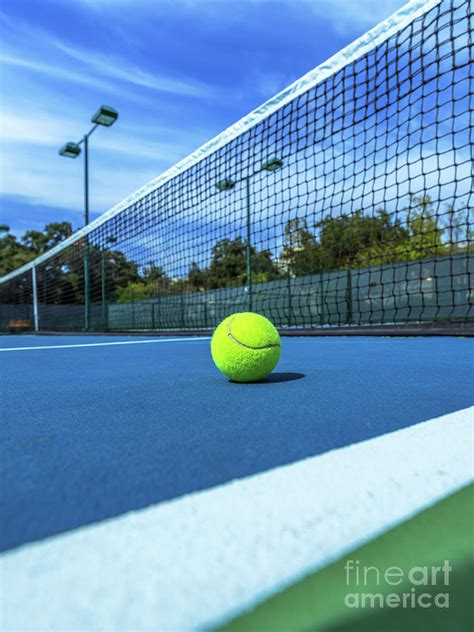tennis_ball: (210, 311, 281, 383)
